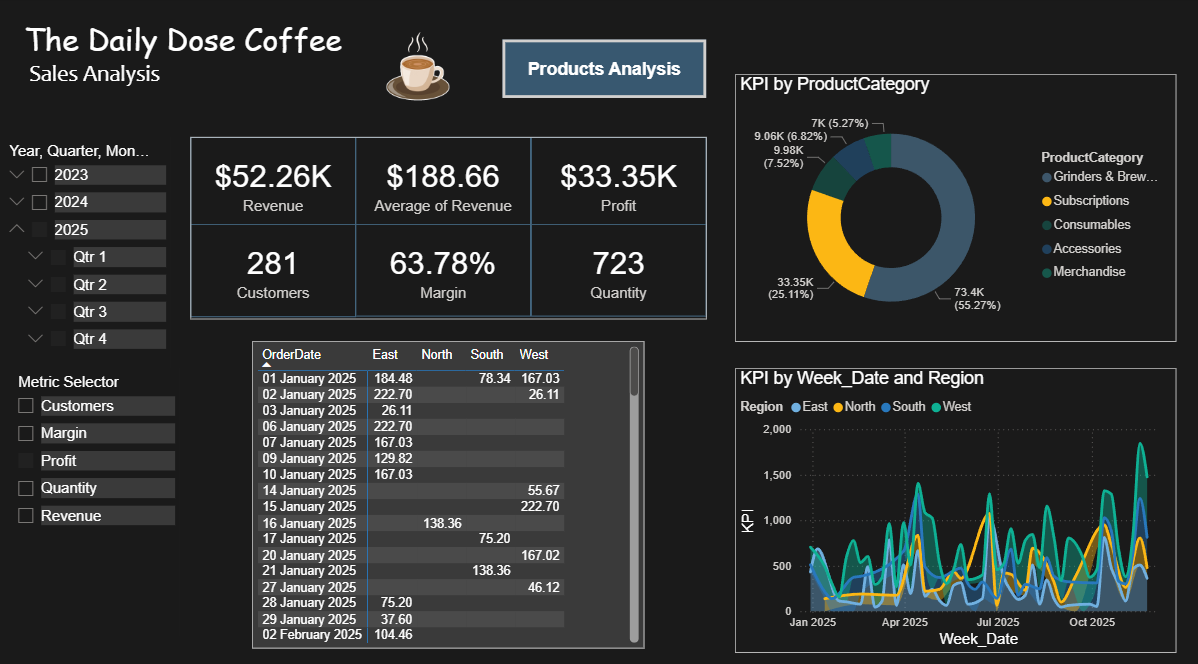

What the dashboard file says about the page in this screenshot:
{"tool":"powerbi","page":{"name":"Page 1","canvas":[1280,720],"ordinal":0},"visuals":[{"type":"donutChart","fields":{"Category":["Query1.ProductCategory"],"Y":["Query1.KPI"]},"box":[782,82,468,284],"z":0},{"type":"stackedAreaChart","fields":{"Series":["Query1.Region"],"Category":["Query1.Week_Date"],"Y":["Query1.KPI"]},"box":[782,394,468,302],"z":1000},{"type":"pivotTable","fields":{"Columns":["Query1.Region"],"Values":["Query1.KPI"],"Rows":["Query1.OrderDate"]},"box":[270,366,416,326],"z":2000},{"type":"slicer","fields":{"Values":["Query1.OrderDate.Variation.Date Hierarchy.Year","Query1.OrderDate.Variation.Date Hierarchy.Quarter","Query1.OrderDate.Variation.Date Hierarchy.Month","Query1.OrderDate.Variation.Date Hierarchy.Day"]},"box":[0,150,184,284],"z":3000},{"type":"card","fields":{"Values":["Sum(Query1.Revenue)"]},"box":[204.5,150.2,175.4,97.7],"z":4000},{"type":"card","fields":{"Values":["CountNonNull(Query1.CustomerID)"]},"box":[204.5,241.7,175.4,98.5],"z":5000},{"type":"card","fields":{"Values":["Avg(Query1.Revenue)"]},"box":[380,150,186,98],"z":6000},{"type":"card","fields":{"Values":["Sum(Query1.Profit)"]},"box":[566,150,186,98],"z":7000},{"type":"card","fields":{"Values":["Query1.Margin"]},"box":[380,242,186,98],"z":8000},{"type":"card","fields":{"Values":["Sum(Query1.Quantity)"]},"box":[566,242,186,98],"z":9000},{"type":"slicer","fields":{"Values":["Metric Selector.Metric Selector"]},"box":[10,394,184,284],"z":11000},{"type":"tableEx","fields":{"Values":["Image.Image"]},"box":[390,0,150,126],"z":12000},{"type":"textbox","box":[24,18,366,90],"z":13000},{"type":"textbox","box":[205,150,547,193],"z":14000},{"type":"actionButton","box":[536,46,216,62],"z":15000}]}

Visuals, with their boxes in screenshot pixels (x1, y1, x2, y2), scaled from the page's 1280x720 canvas onto the 1198x664 screenshot:
donutChart - Query1.ProductCategory x Query1.KPI: {"left": 732, "top": 76, "right": 1170, "bottom": 338}
stackedAreaChart - Query1.Region x Query1.Week_Date: {"left": 732, "top": 363, "right": 1170, "bottom": 642}
pivotTable - Query1.Region x Query1.KPI: {"left": 253, "top": 338, "right": 642, "bottom": 638}
slicer - Query1.OrderDate.Variation.Date Hierarchy.Year x Query1.OrderDate.Variation.Date Hierarchy.Quarter: {"left": 0, "top": 138, "right": 172, "bottom": 400}
card - Sum(Query1.Revenue): {"left": 191, "top": 139, "right": 356, "bottom": 229}
card - CountNonNull(Query1.CustomerID): {"left": 191, "top": 223, "right": 356, "bottom": 314}
card - Avg(Query1.Revenue): {"left": 356, "top": 138, "right": 530, "bottom": 229}
card - Sum(Query1.Profit): {"left": 530, "top": 138, "right": 704, "bottom": 229}
card - Query1.Margin: {"left": 356, "top": 223, "right": 530, "bottom": 314}
card - Sum(Query1.Quantity): {"left": 530, "top": 223, "right": 704, "bottom": 314}
slicer - Metric Selector.Metric Selector: {"left": 9, "top": 363, "right": 182, "bottom": 625}
tableEx - Image.Image: {"left": 365, "top": 0, "right": 505, "bottom": 116}
textbox: {"left": 22, "top": 17, "right": 365, "bottom": 100}
textbox: {"left": 192, "top": 138, "right": 704, "bottom": 316}
actionButton: {"left": 502, "top": 42, "right": 704, "bottom": 100}
